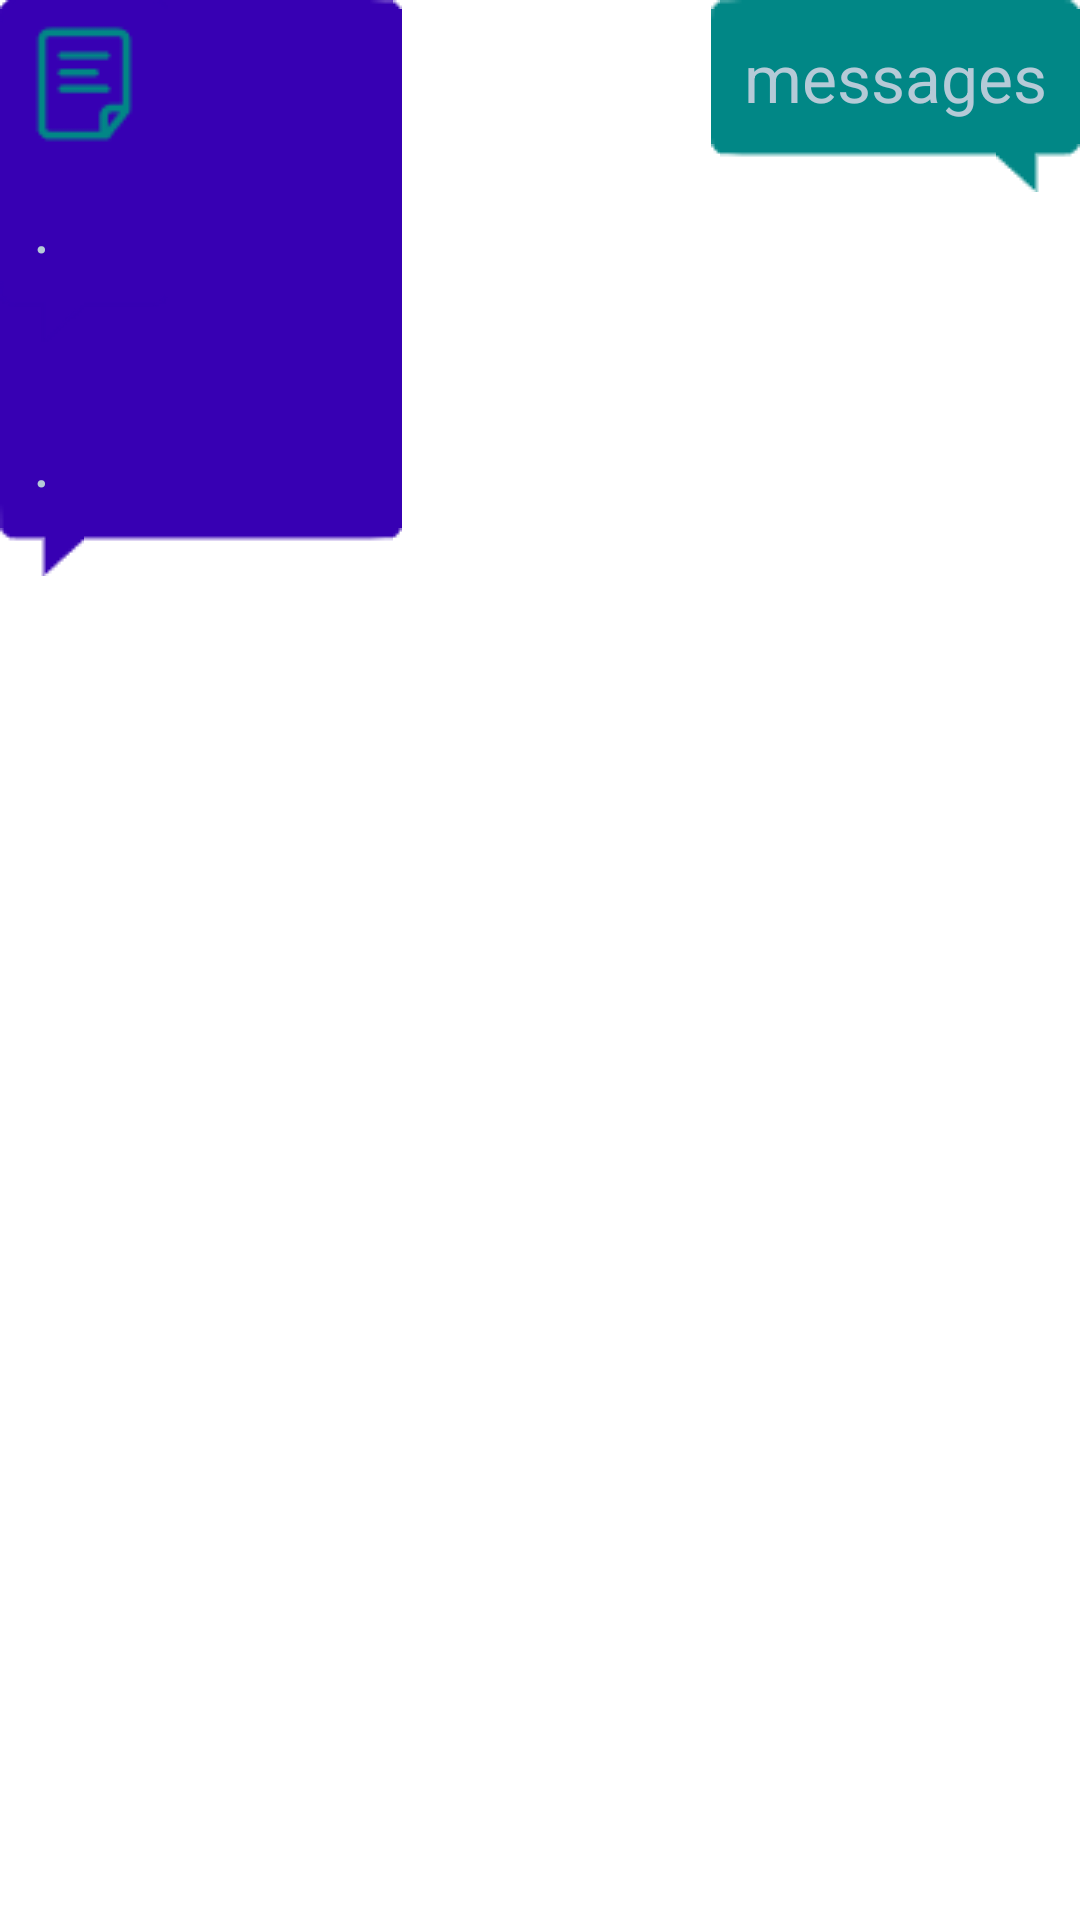

Icon click points for this 1080 x 1920 phone screenshot, format (x=x, y=y):
file: (x=84, y=83)
